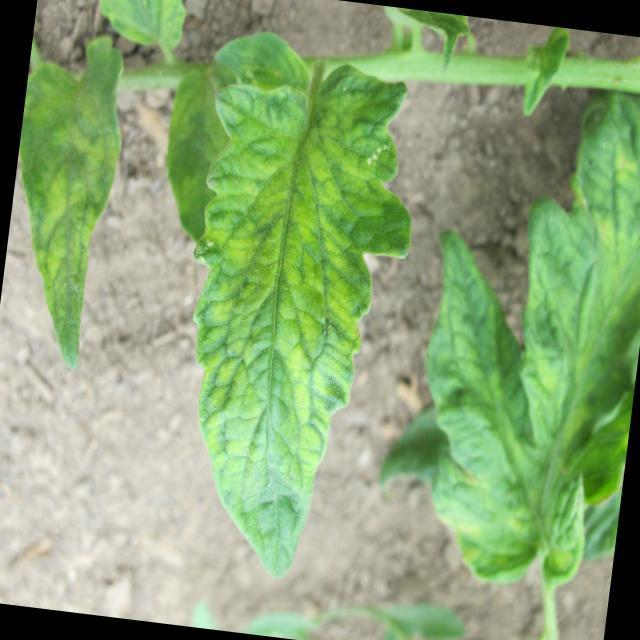Mosaic Virus: (158, 71, 414, 607), (407, 76, 640, 586), (0, 67, 120, 367)
